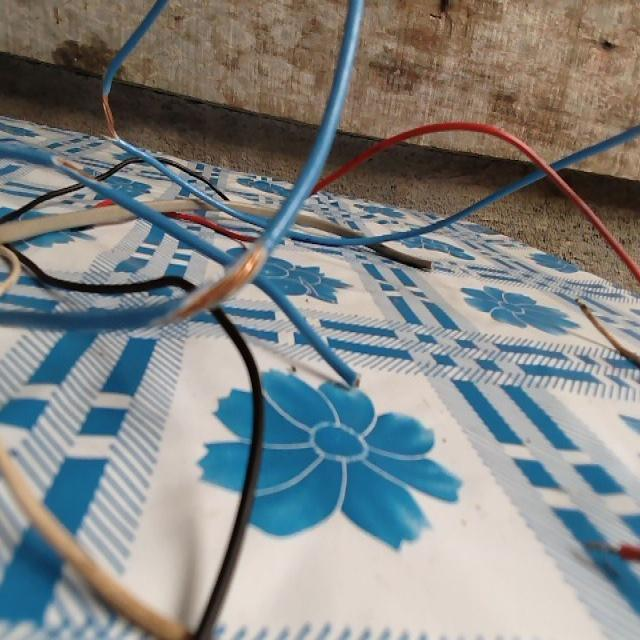-: (166, 239, 272, 324), (49, 153, 109, 196), (97, 87, 123, 153), (575, 293, 586, 323)
